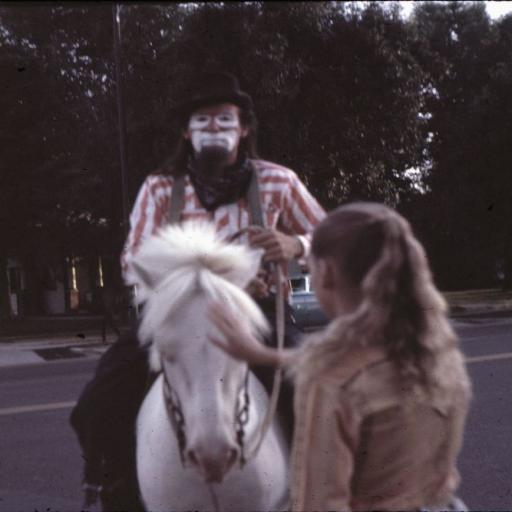horse: (132, 218, 296, 512)
